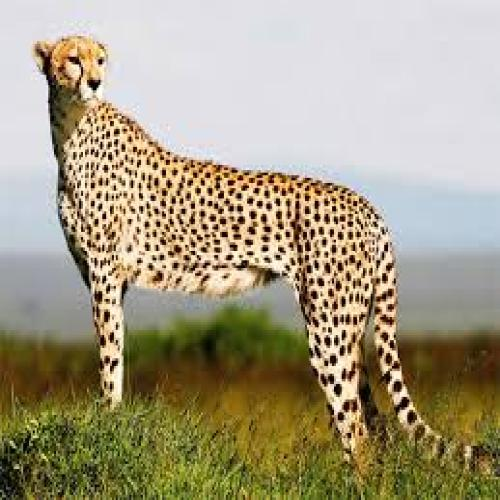cheetah-endangered: (24, 25, 464, 466)
